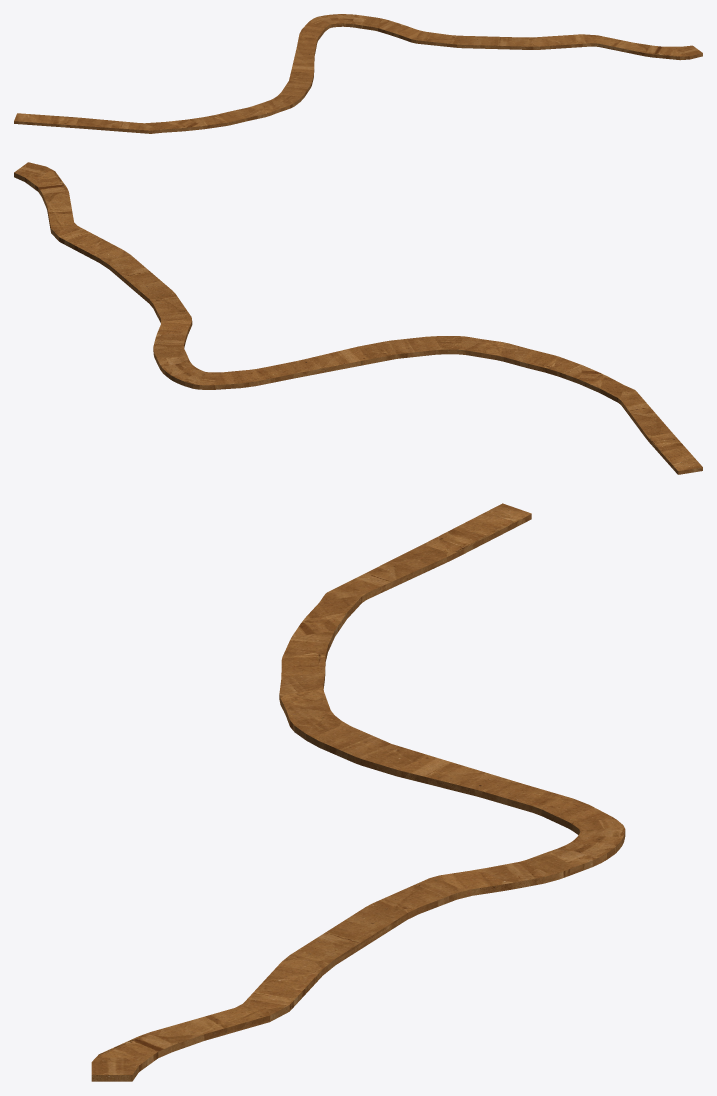
Rendered from tropinka.fbx.
3 renders of one model, top to bottom at view 1: azimuth 30°, elevation 25°; view 2: azimuth 150°, elevation 25°; view 3: azimuth 270°, elevation 25°, orthographic. The views are drawn at different scales.
Visible parts, largest first — view 1: Plane; view 2: Plane; view 3: Plane.
Part boxes in pixels (x1,y1,x2,y2): Plane: [14, 14, 702, 133]; Plane: [14, 162, 702, 474]; Plane: [91, 503, 625, 1081].
Size of the model in its own units: 51335 by 280 by 20239.
1 material, 1 textured.
